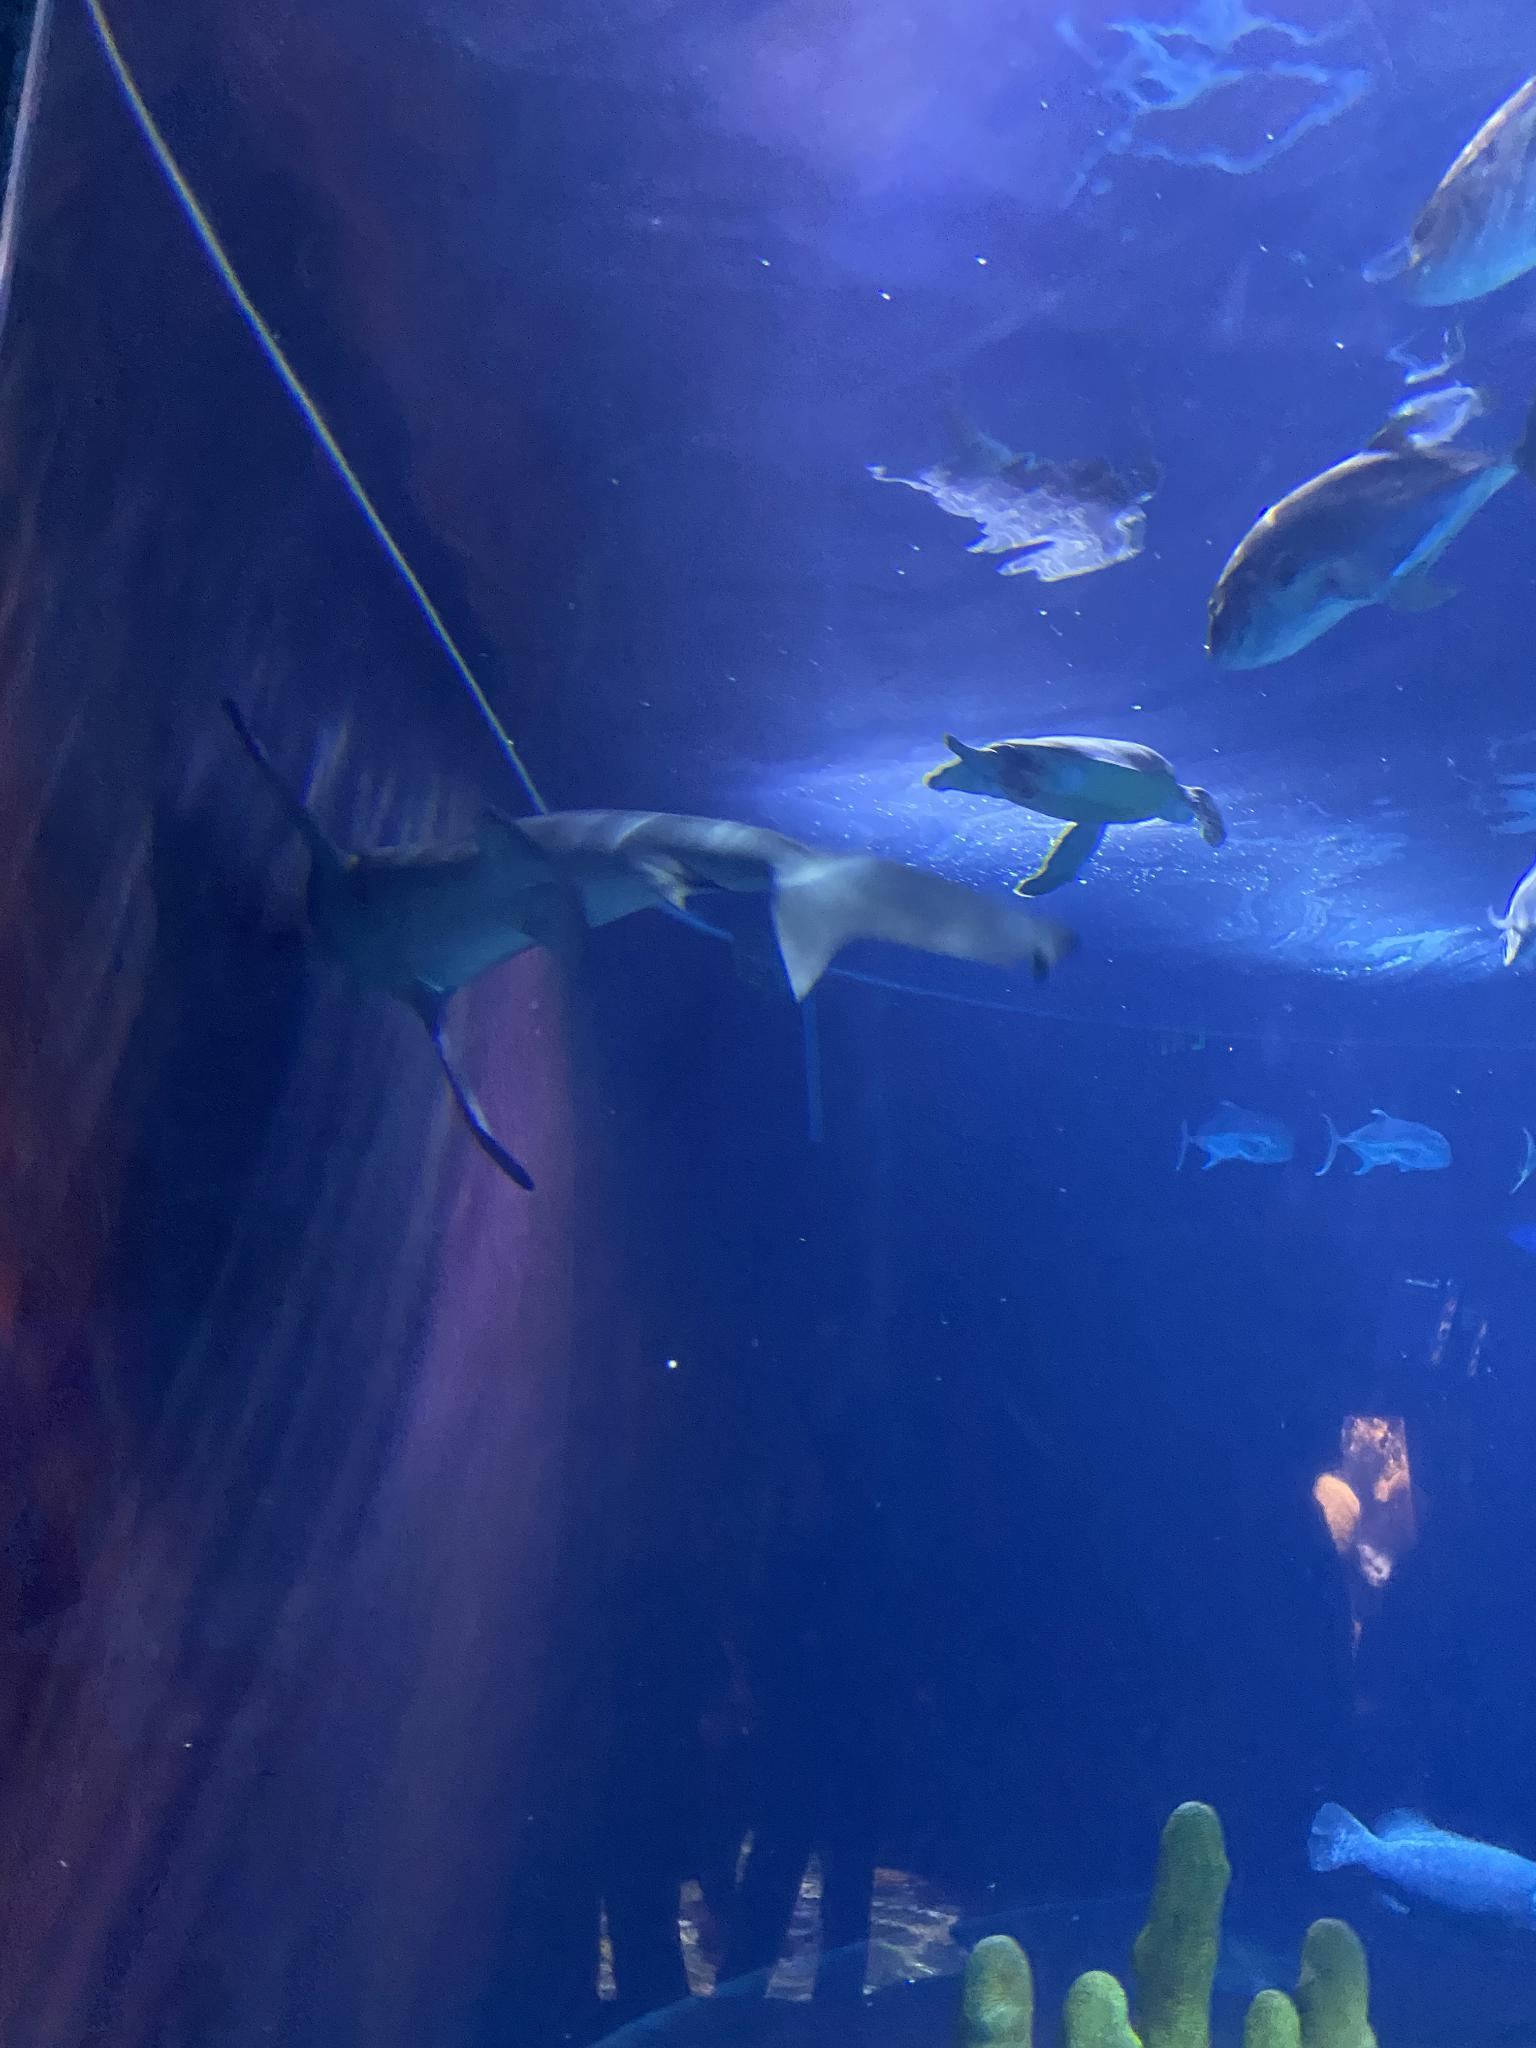fish: (1204, 398, 1536, 669), (1305, 1790, 1536, 1969), (1392, 55, 1536, 318), (1315, 1101, 1455, 1182), (1173, 1101, 1300, 1176), (1489, 871, 1536, 966)
shark: (219, 705, 1084, 1190)
